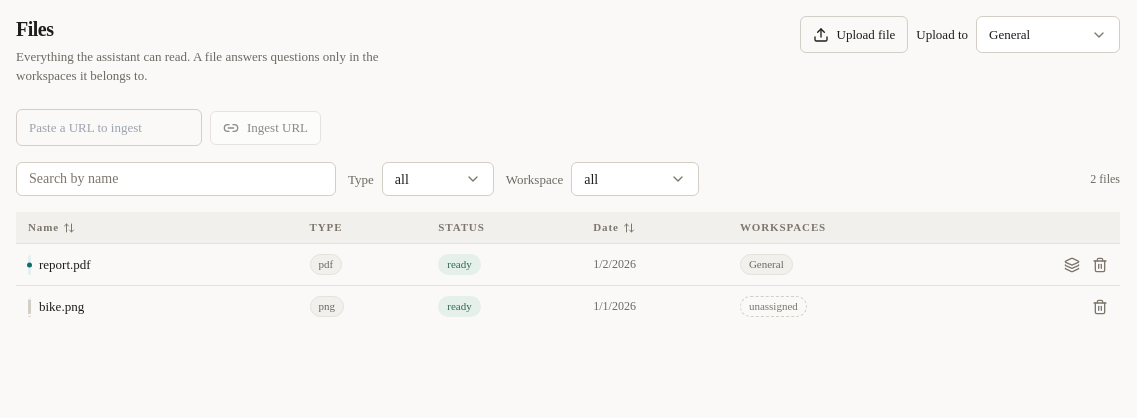
Scenario: FilesManager › offers to clear the filters when they matched nothing
Expected: the text "report.pdf" is shown, [39,255,91,274]
Step 1. Type "zzzz" into the field named "Search files" → (176, 179), box [16,162,336,196]
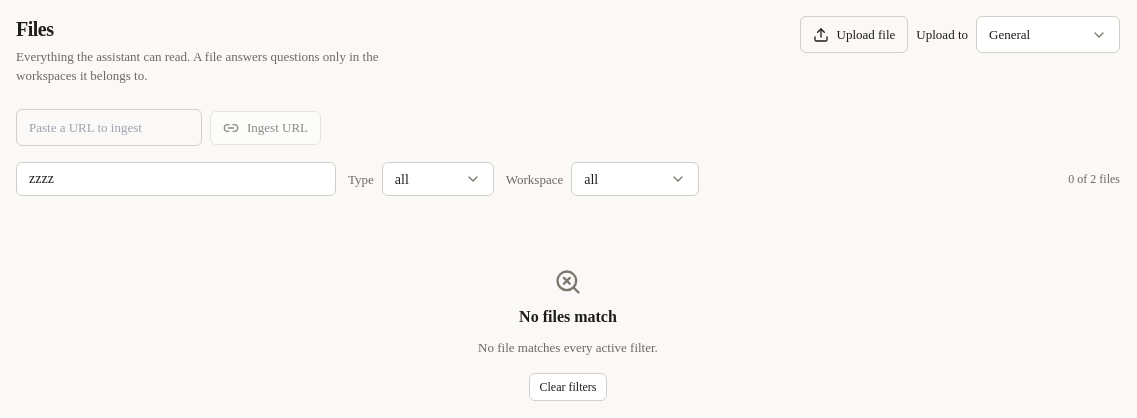
Now the text "No files match" is shown, box [519,304,617,330]
